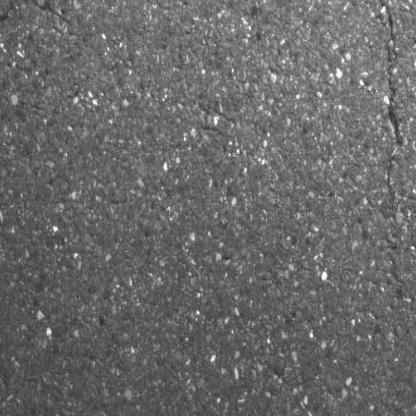Cracks: (375, 0, 404, 148), (384, 153, 409, 222), (0, 0, 27, 54)
